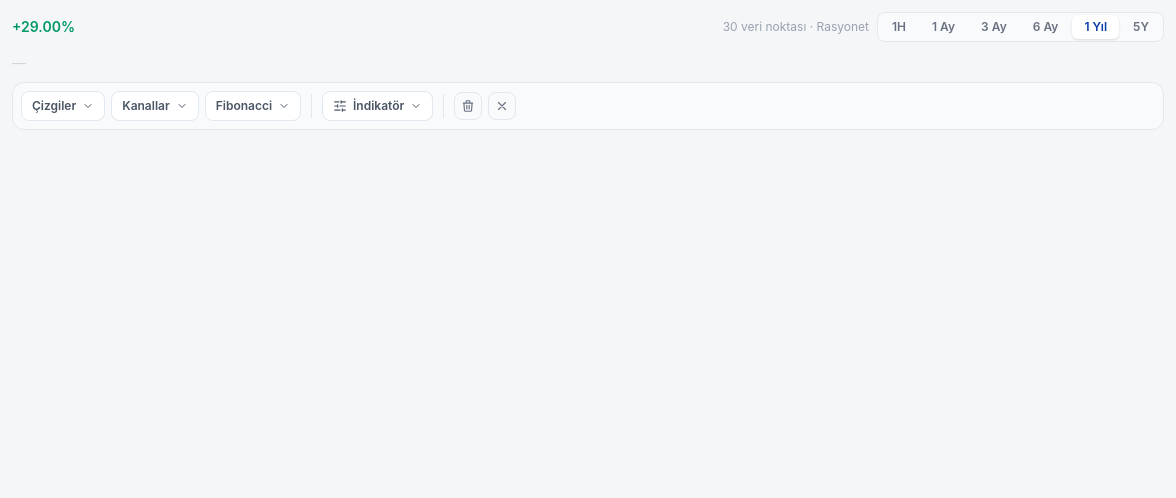
Test: TefasPriceChart (Vitest + @testing-library/react, jsdom) › aralık değişimi (etkileşim) › 5Y TEFAS noktası dönerse kaynak "TEFAS + Rasyonet" olur ve açıklama notu görünür
The width and height of the screenshot is (1176, 498).
Click the button "5Y" at (1141, 27), box x1=1121 y1=15 x2=1161 y2=39
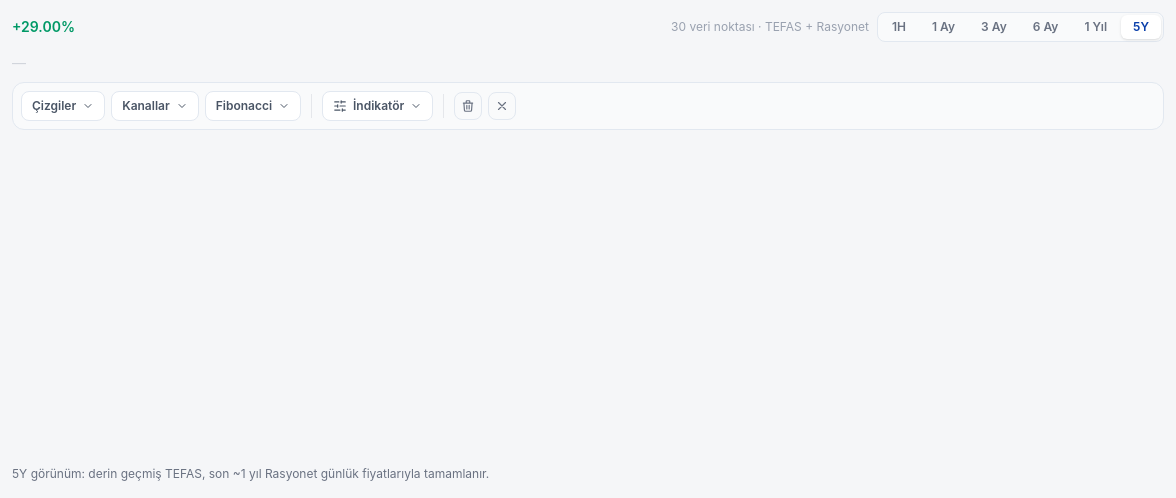
Expected: the text "30 veri noktası · TEFAS + Rasyonet" is shown, x1=671 y1=19 x2=869 y2=35
Expected: the text "derin geçmiş TEFAS, son ~1 yıl Rasyonet" is shown, x1=12 y1=466 x2=489 y2=481
